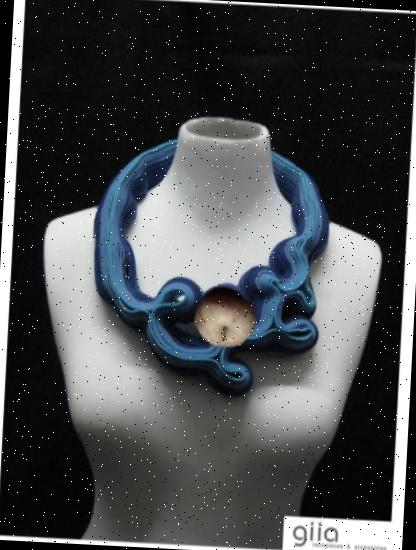Apple: (192, 284, 260, 350)
